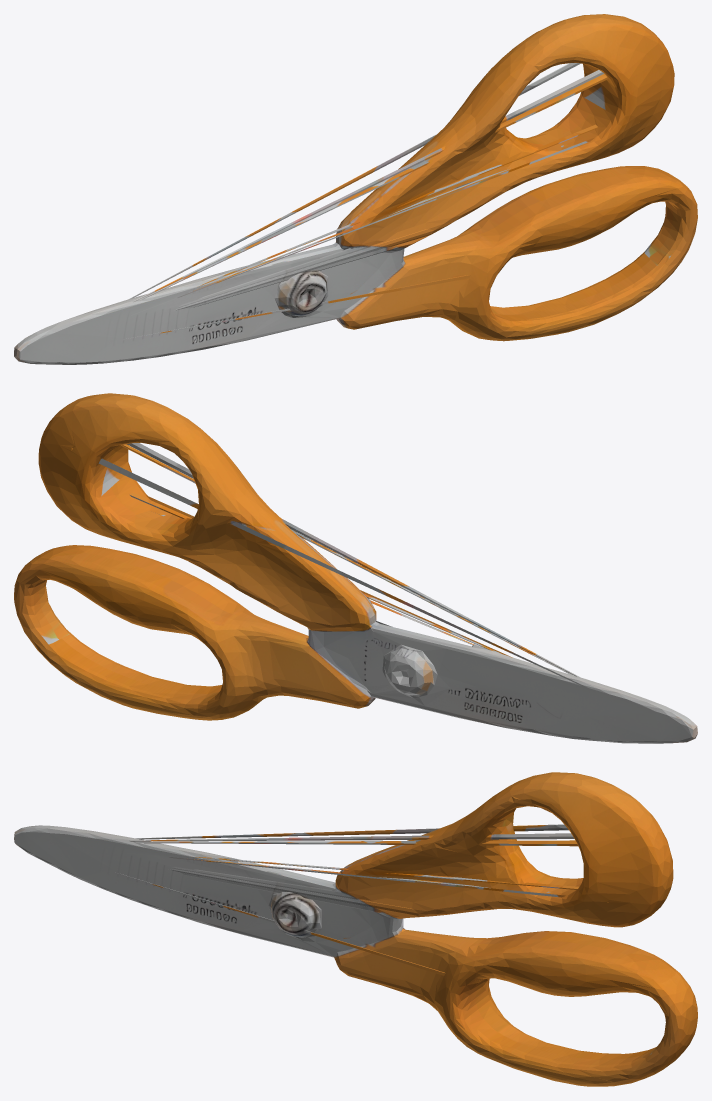
Rendered from scissors_textured.obj.
The picture shows the model from 3 angles, top to bottom: view 1: azimuth 30°, elevation 25°; view 2: azimuth 150°, elevation 25°; view 3: azimuth 330°, elevation 25°; orthographic projection.
Visible parts, largest first — view 1: scissors_textured; view 2: scissors_textured; view 3: scissors_textured.
Part boxes in pixels (left/top/right/bottom): scissors_textured: left=14, top=14, right=697, bottom=364; scissors_textured: left=14, top=393, right=697, bottom=743; scissors_textured: left=14, top=772, right=697, bottom=1086.
Bounding box in the file's own units: 1 × 0.4317 × 0.1057.
1 material, 1 textured.
